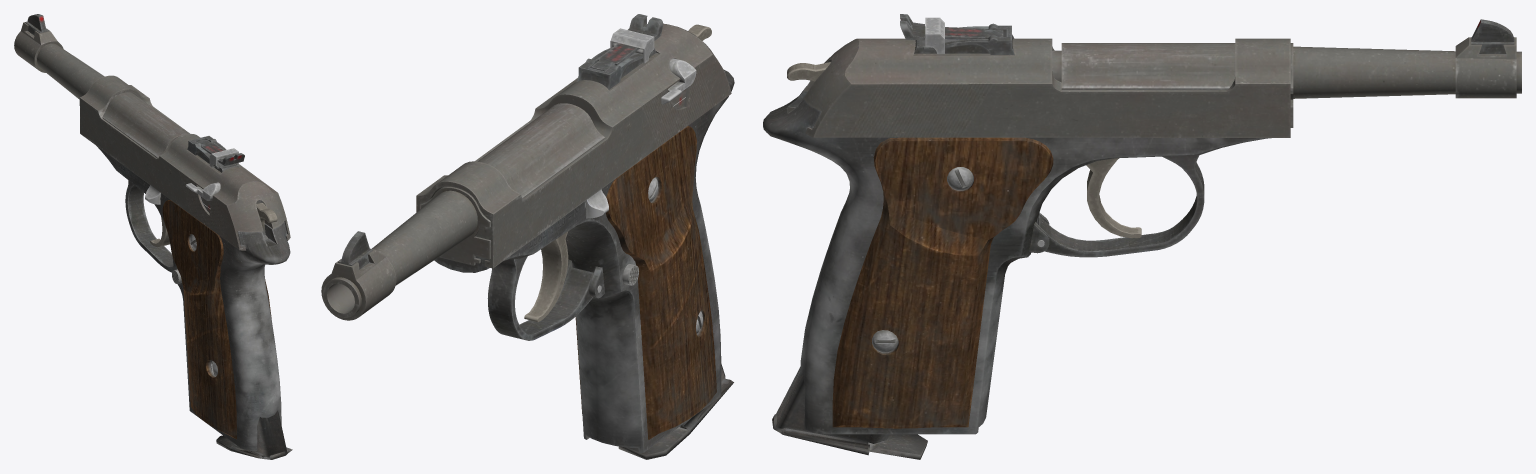
File: pistol.glb
3 renders of one model, left to right at view 1: azimuth 30°, elevation 25°; view 2: azimuth 150°, elevation 25°; view 3: azimuth 270°, elevation 25°, orthographic. The views are drawn at different scales.
Parts seen in each view (by area): view 1: pistol_Gun, pistol_GunFull; view 2: pistol_Gun, pistol_GunFull; view 3: pistol_Gun, pistol_GunFull.
Part boxes in pixels (box(x1,y1,x2,y2)): pistol_Gun: box(14, 14, 290, 450); pistol_GunFull: box(216, 410, 292, 459); pistol_Gun: box(321, 14, 734, 452); pistol_GunFull: box(618, 364, 733, 459); pistol_Gun: box(763, 14, 1521, 434); pistol_GunFull: box(772, 366, 927, 459).
Bounding box in the file's own units: 0.0318 × 0.1393 × 0.2219.
1 material, 1 textured.
